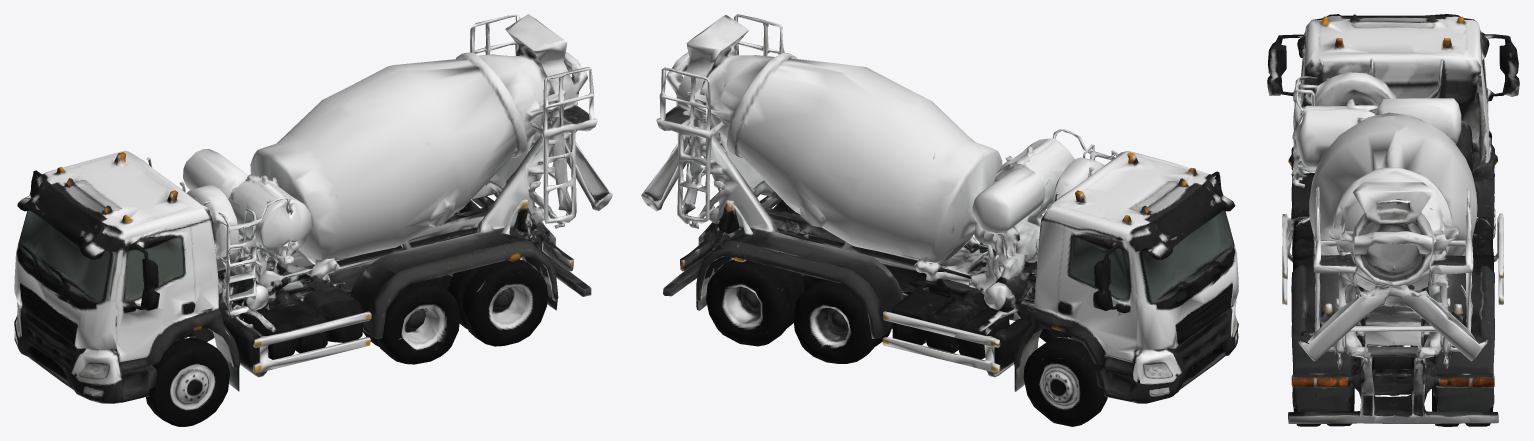
File: concrete-mixer.glb
3 renders of one model, left to right at view 1: azimuth 30°, elevation 25°; view 2: azimuth 150°, elevation 25°; view 3: azimuth 270°, elevation 25°, orthographic. The views are drawn at different scales.
Bounding box in the file's own units: 1.9 × 0.923 × 0.7664.
1 material, 1 textured.
